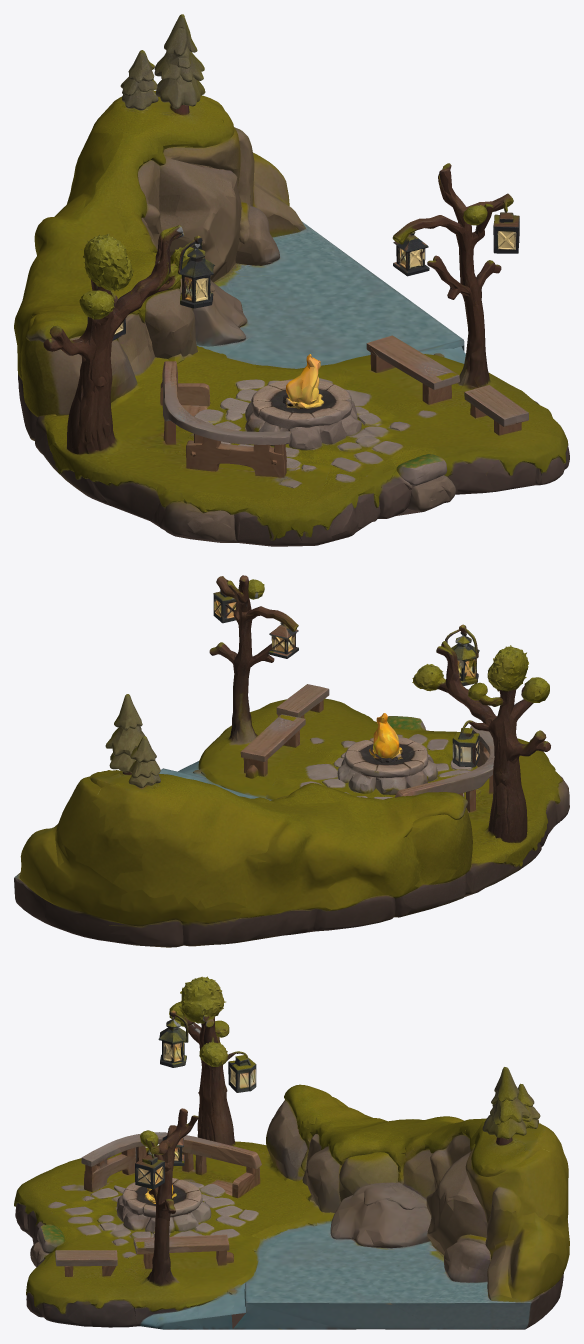
File: a9_lake_firepit.glb
The picture shows the model from 3 angles, top to bottom: view 1: azimuth 30°, elevation 25°; view 2: azimuth 150°, elevation 25°; view 3: azimuth 270°, elevation 25°; orthographic projection. The views are drawn at different scales.
Bounding box in the file's own units: 1.39 × 0.8172 × 1.9.
1 material, 1 textured.
